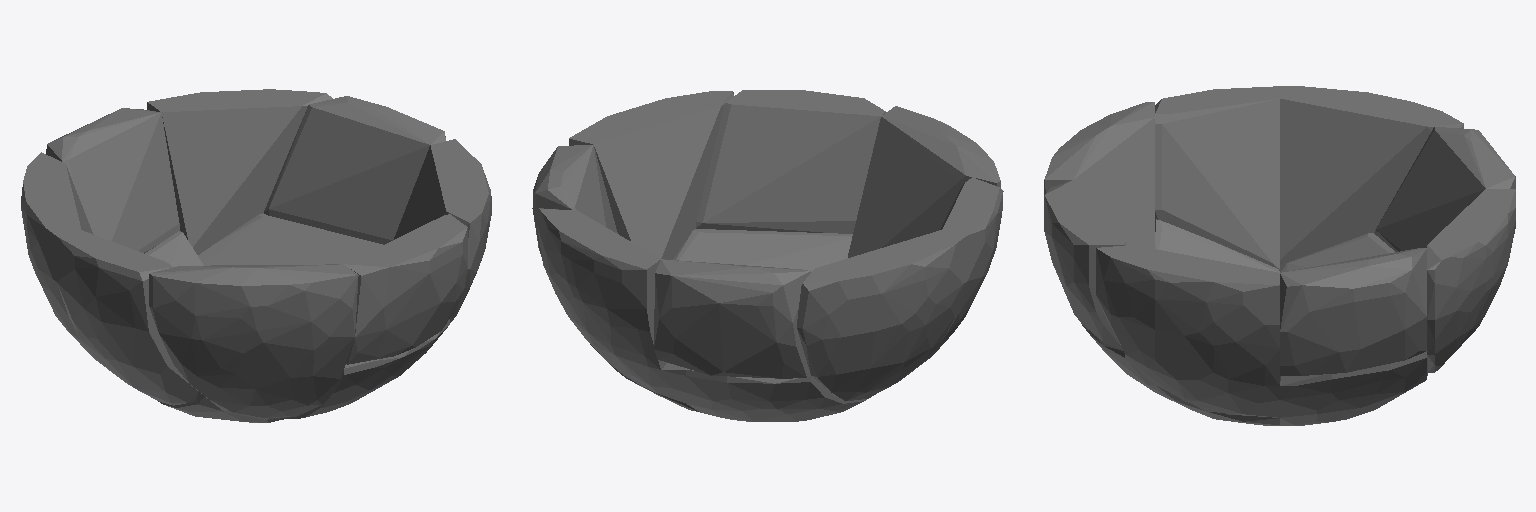
URDF robot description (bowl_015):
<?xml version="1.0" ?>
<robot name="bowl_015">
  <material name="color">
    <color rgba=".5 .5 .5 1"/>
  </material>

  <link name="base_link">
    <contact>
      <lateral_friction value="1.0"/>
      <rolling_friction value="0.001"/>
      <spinning_friction value="0.001"/>
      <inertia_scaling value="1.0"/>
    </contact>
    <inertial>
      <origin rpy="0 0 0" xyz="-6.02967e-06 -3.50351e-06 0.00392433"/>
       <mass value="0.1"/>
       <inertia ixx="1" ixy="0" ixz="0" iyy="1" iyz="0" izz="1"/>
    </inertial>

    <visual>
      <origin rpy="0 0 0" xyz="0 0 0"/>
      <geometry>
        <mesh filename="bowl_015_vhacd_0_of_12.obj" scale="1 1 1"/>
      </geometry>
      <material name="color"/>
    </visual>
    <visual>
      <origin rpy="0 0 0" xyz="0 0 0"/>
      <geometry>
        <mesh filename="bowl_015_vhacd_1_of_12.obj" scale="1 1 1"/>
      </geometry>
      <material name="color"/>
    </visual>
    <visual>
      <origin rpy="0 0 0" xyz="0 0 0"/>
      <geometry>
        <mesh filename="bowl_015_vhacd_2_of_12.obj" scale="1 1 1"/>
      </geometry>
      <material name="color"/>
    </visual>
    <visual>
      <origin rpy="0 0 0" xyz="0 0 0"/>
      <geometry>
        <mesh filename="bowl_015_vhacd_3_of_12.obj" scale="1 1 1"/>
      </geometry>
      <material name="color"/>
    </visual>
    <visual>
      <origin rpy="0 0 0" xyz="0 0 0"/>
      <geometry>
        <mesh filename="bowl_015_vhacd_4_of_12.obj" scale="1 1 1"/>
      </geometry>
      <material name="color"/>
    </visual>
    <visual>
      <origin rpy="0 0 0" xyz="0 0 0"/>
      <geometry>
        <mesh filename="bowl_015_vhacd_5_of_12.obj" scale="1 1 1"/>
      </geometry>
      <material name="color"/>
    </visual>
    <visual>
      <origin rpy="0 0 0" xyz="0 0 0"/>
      <geometry>
        <mesh filename="bowl_015_vhacd_6_of_12.obj" scale="1 1 1"/>
      </geometry>
      <material name="color"/>
    </visual>
    <visual>
      <origin rpy="0 0 0" xyz="0 0 0"/>
      <geometry>
        <mesh filename="bowl_015_vhacd_7_of_12.obj" scale="1 1 1"/>
      </geometry>
      <material name="color"/>
    </visual>
    <visual>
      <origin rpy="0 0 0" xyz="0 0 0"/>
      <geometry>
        <mesh filename="bowl_015_vhacd_8_of_12.obj" scale="1 1 1"/>
      </geometry>
      <material name="color"/>
    </visual>
    <visual>
      <origin rpy="0 0 0" xyz="0 0 0"/>
      <geometry>
        <mesh filename="bowl_015_vhacd_9_of_12.obj" scale="1 1 1"/>
      </geometry>
      <material name="color"/>
    </visual>
    <visual>
      <origin rpy="0 0 0" xyz="0 0 0"/>
      <geometry>
        <mesh filename="bowl_015_vhacd_10_of_12.obj" scale="1 1 1"/>
      </geometry>
      <material name="color"/>
    </visual>
    <visual>
      <origin rpy="0 0 0" xyz="0 0 0"/>
      <geometry>
        <mesh filename="bowl_015_vhacd_11_of_12.obj" scale="1 1 1"/>
      </geometry>
      <material name="color"/>
    </visual>

    <collision>
      <origin rpy="0 0 0" xyz="0 0 0"/>
      <geometry>
        <mesh filename="bowl_015_vhacd_0_of_12.obj" scale="1 1 1"/>
      </geometry>
    </collision>
    <collision>
      <origin rpy="0 0 0" xyz="0 0 0"/>
      <geometry>
        <mesh filename="bowl_015_vhacd_1_of_12.obj" scale="1 1 1"/>
      </geometry>
    </collision>
    <collision>
      <origin rpy="0 0 0" xyz="0 0 0"/>
      <geometry>
        <mesh filename="bowl_015_vhacd_2_of_12.obj" scale="1 1 1"/>
      </geometry>
    </collision>
    <collision>
      <origin rpy="0 0 0" xyz="0 0 0"/>
      <geometry>
        <mesh filename="bowl_015_vhacd_3_of_12.obj" scale="1 1 1"/>
      </geometry>
    </collision>
    <collision>
      <origin rpy="0 0 0" xyz="0 0 0"/>
      <geometry>
        <mesh filename="bowl_015_vhacd_4_of_12.obj" scale="1 1 1"/>
      </geometry>
    </collision>
    <collision>
      <origin rpy="0 0 0" xyz="0 0 0"/>
      <geometry>
        <mesh filename="bowl_015_vhacd_5_of_12.obj" scale="1 1 1"/>
      </geometry>
    </collision>
    <collision>
      <origin rpy="0 0 0" xyz="0 0 0"/>
      <geometry>
        <mesh filename="bowl_015_vhacd_6_of_12.obj" scale="1 1 1"/>
      </geometry>
    </collision>
    <collision>
      <origin rpy="0 0 0" xyz="0 0 0"/>
      <geometry>
        <mesh filename="bowl_015_vhacd_7_of_12.obj" scale="1 1 1"/>
      </geometry>
    </collision>
    <collision>
      <origin rpy="0 0 0" xyz="0 0 0"/>
      <geometry>
        <mesh filename="bowl_015_vhacd_8_of_12.obj" scale="1 1 1"/>
      </geometry>
    </collision>
    <collision>
      <origin rpy="0 0 0" xyz="0 0 0"/>
      <geometry>
        <mesh filename="bowl_015_vhacd_9_of_12.obj" scale="1 1 1"/>
      </geometry>
    </collision>
    <collision>
      <origin rpy="0 0 0" xyz="0 0 0"/>
      <geometry>
        <mesh filename="bowl_015_vhacd_10_of_12.obj" scale="1 1 1"/>
      </geometry>
    </collision>
    <collision>
      <origin rpy="0 0 0" xyz="0 0 0"/>
      <geometry>
        <mesh filename="bowl_015_vhacd_11_of_12.obj" scale="1 1 1"/>
      </geometry>
    </collision>

  </link>
</robot>

--- Facts derived from the render (not from the file) ---
Views: 3 orthographic renders of the robot side by side, from view 1: azimuth 30°, elevation 25°; view 2: azimuth 150°, elevation 25°; view 3: azimuth 270°, elevation 25°.
Robot: bowl_015 — 1 links, 0 joints (none); root link base_link; default pose: every joint at zero.
Links seen in each view (by area): view 1: base_link; view 2: base_link; view 3: base_link.
Link boxes in pixels (x1=…): base_link: x1=21, y1=89, x2=491, y2=422; base_link: x1=532, y1=90, x2=1003, y2=421; base_link: x1=1044, y1=86, x2=1515, y2=425.
Size in the robot's own frame: 0.2519 by 0.2519 by 0.1299 metres.
12 mesh visuals loaded from 12 distinct referenced files (12 OBJ).